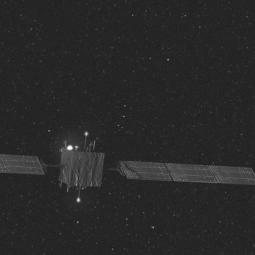smart_1: (24, 125, 162, 211)
